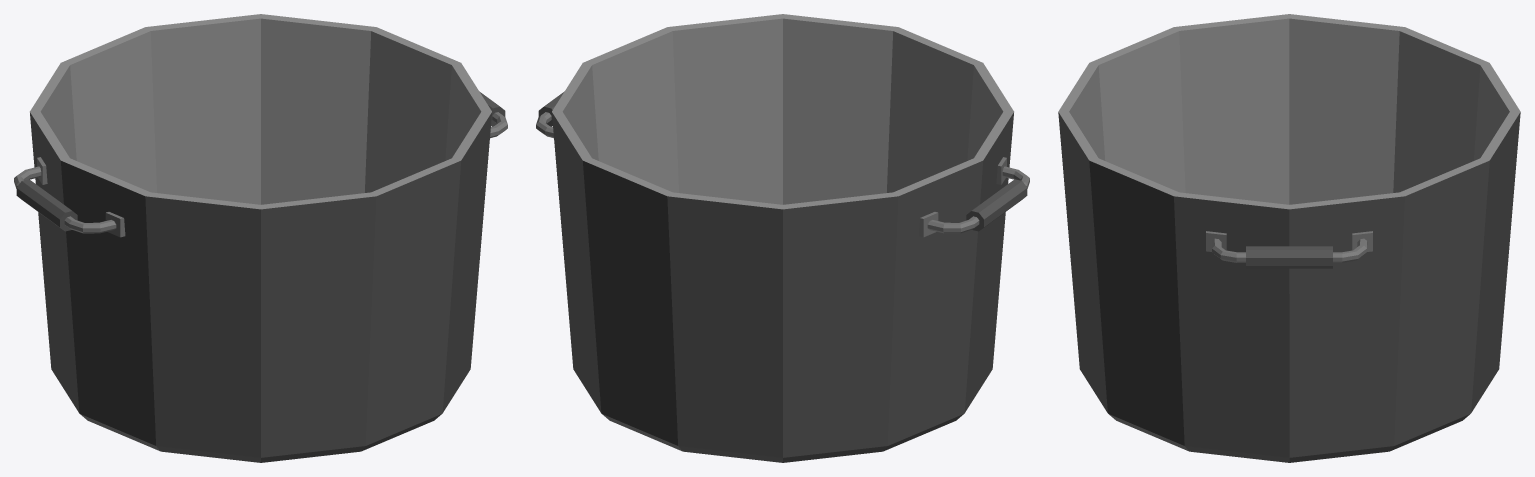
The model's file is Pan_03_C2.fbx.
3 views of the same model, side by side, from view 1: azimuth 30°, elevation 25°; view 2: azimuth 150°, elevation 25°; view 3: azimuth 270°, elevation 25° (orthographic).
Parts seen in each view (by area): view 1: Pan_03_C2; view 2: Pan_03_C2; view 3: Pan_03_C2.
Boxes of the visible parts, left/top/right/bottom form: Pan_03_C2: left=14, top=14, right=507, bottom=462; Pan_03_C2: left=536, top=14, right=1029, bottom=462; Pan_03_C2: left=1058, top=14, right=1520, bottom=462.
Bounding box in the file's own units: 31.07 × 17.77 × 27.92.
